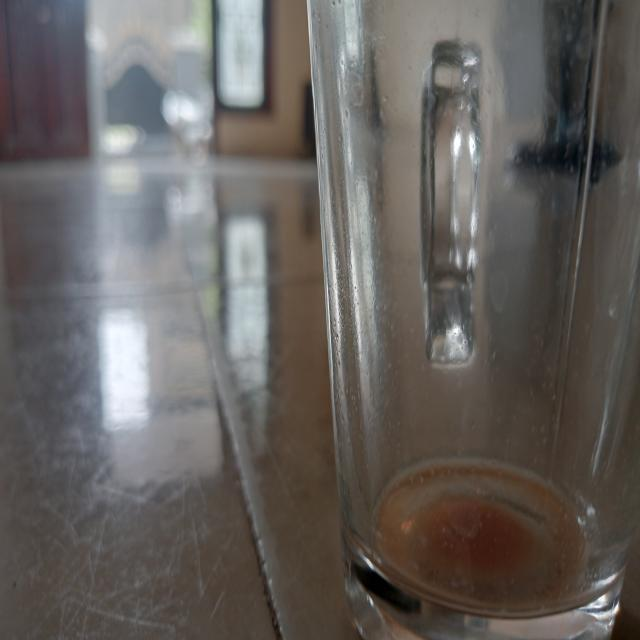glass-VX4N: (300, 2, 640, 640)
